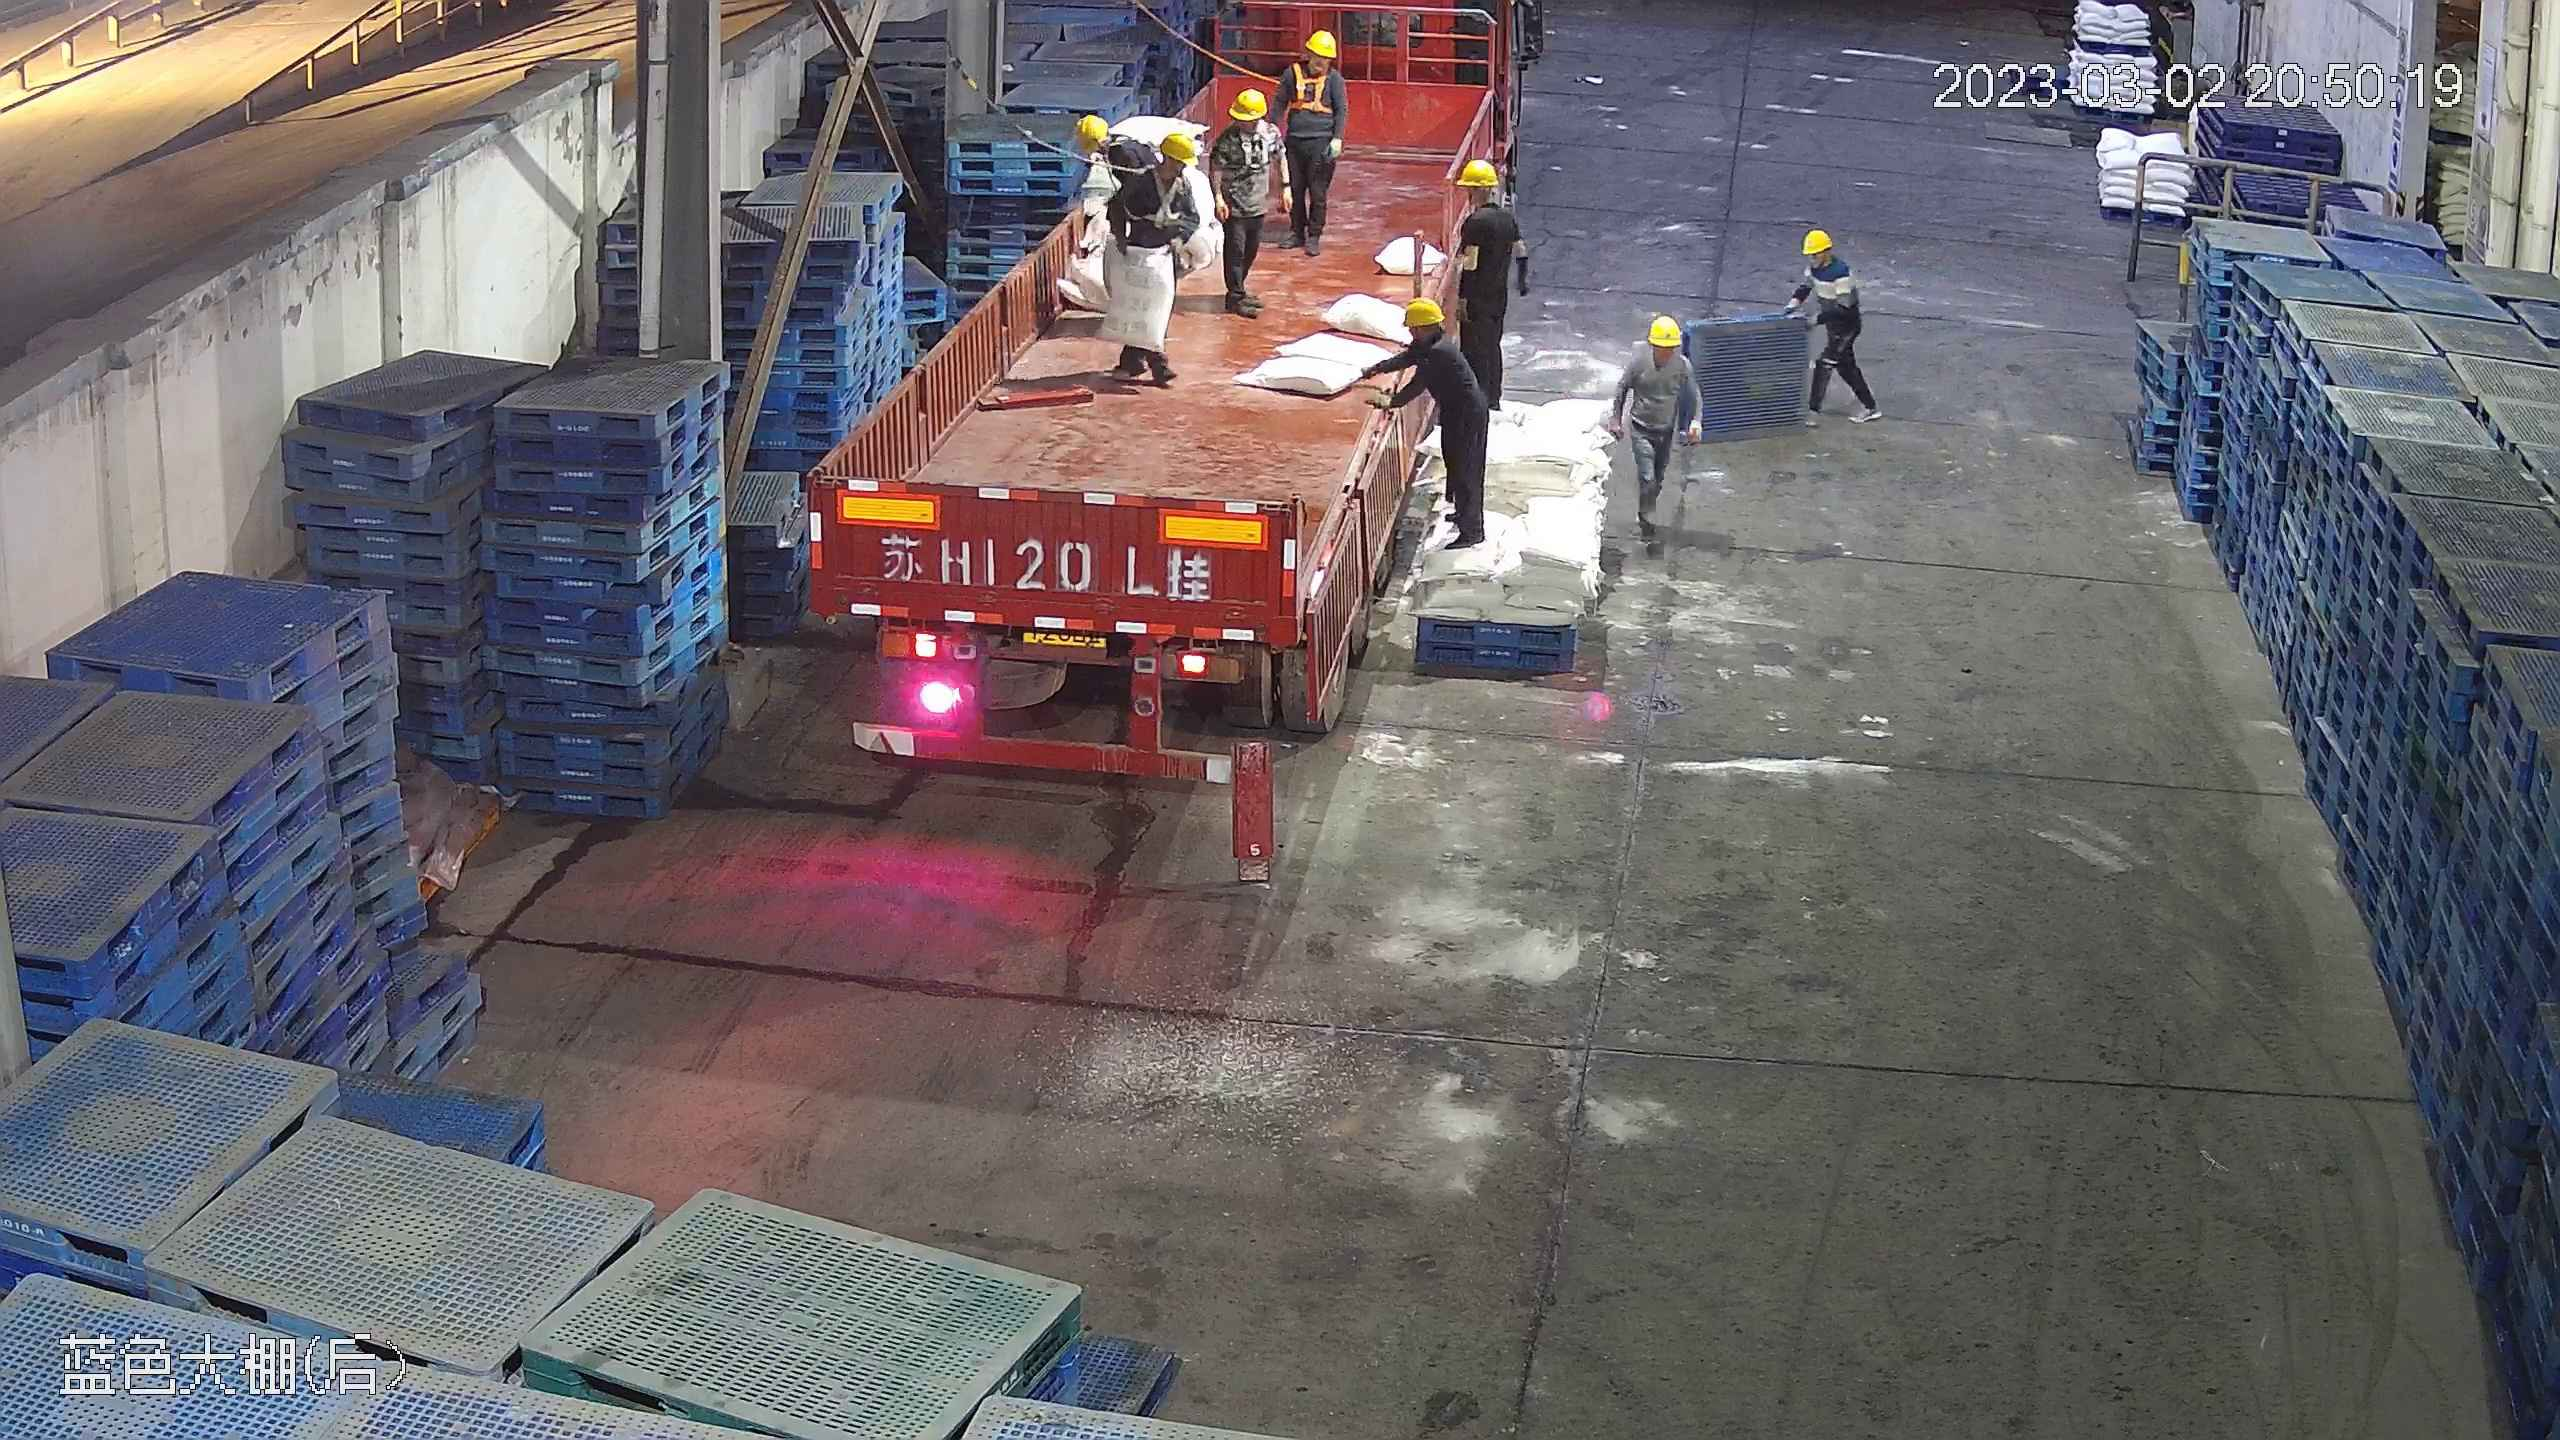belt: (1217, 126, 1273, 193), (1285, 62, 1341, 117), (1143, 171, 1192, 230), (1110, 131, 1157, 155)
head: (1103, 120, 1202, 211), (1396, 293, 1473, 386), (1619, 315, 1699, 391), (1449, 158, 1519, 243), (1076, 114, 1141, 195), (1275, 26, 1348, 97), (1210, 89, 1277, 167), (1795, 228, 1852, 287)
helmet: (1159, 129, 1199, 165), (1401, 294, 1446, 327), (1457, 158, 1499, 187), (1074, 113, 1109, 145), (1302, 27, 1340, 56), (1647, 315, 1684, 345), (1229, 89, 1266, 118), (1802, 228, 1834, 254)
people: (1605, 310, 1706, 578), (1392, 289, 1490, 559), (1111, 126, 1199, 377), (1447, 156, 1524, 414), (1784, 225, 1880, 426), (1275, 19, 1351, 255), (1202, 91, 1278, 321)
truck: (808, 63, 1514, 783)
